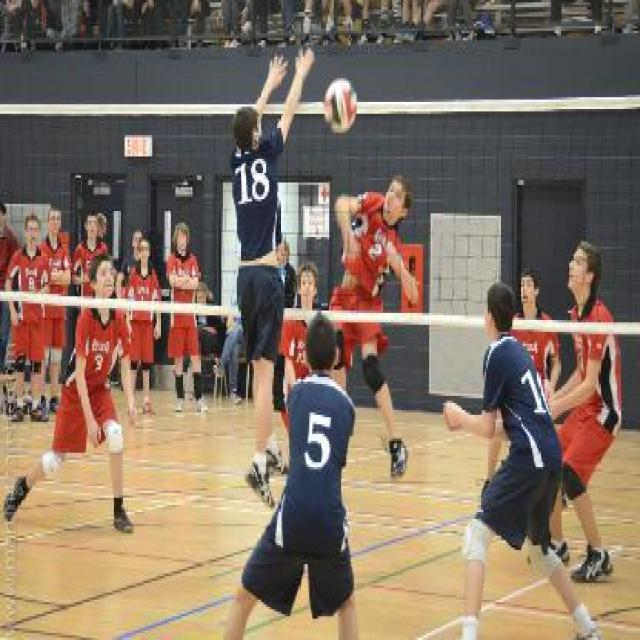volleyball: (323, 77, 357, 134)
